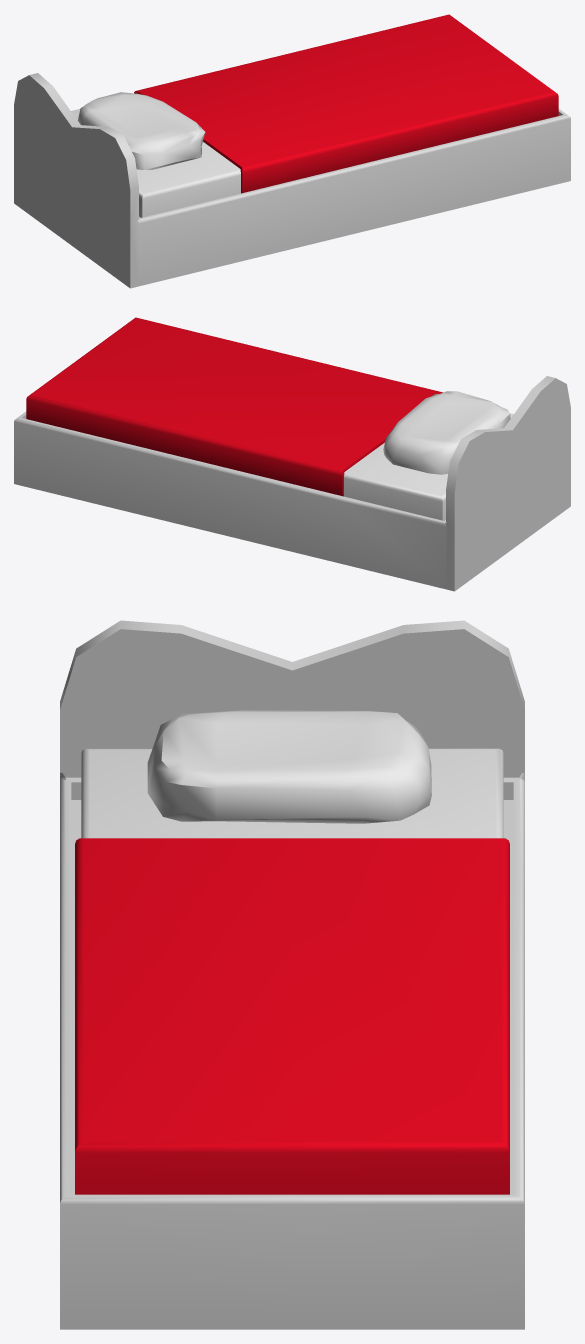
The model's file is bed.fbx.
The picture shows the model from 3 angles, top to bottom: view 1: azimuth 30°, elevation 25°; view 2: azimuth 150°, elevation 25°; view 3: azimuth 270°, elevation 25°; orthographic projection. The views are drawn at different scales.
Visible parts, largest first — view 1: bed; view 2: bed; view 3: bed.
Boxes of the visible parts, bbox=[...] form: bed: bbox=[14, 14, 570, 288]; bed: bbox=[14, 317, 570, 591]; bed: bbox=[60, 620, 524, 1329].
Bounding box in the file's own units: 212 × 64.17 × 97.
